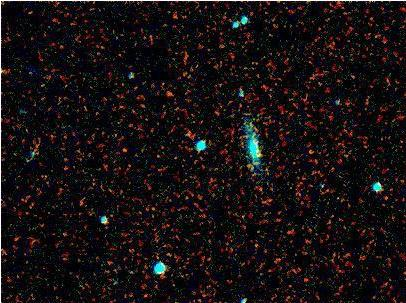star: (201, 96, 231, 126)
